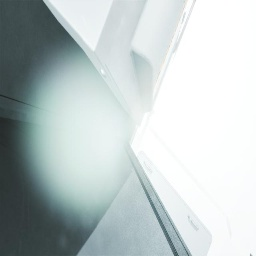SafetySwitchPanel ,: (43, 0, 188, 127)
